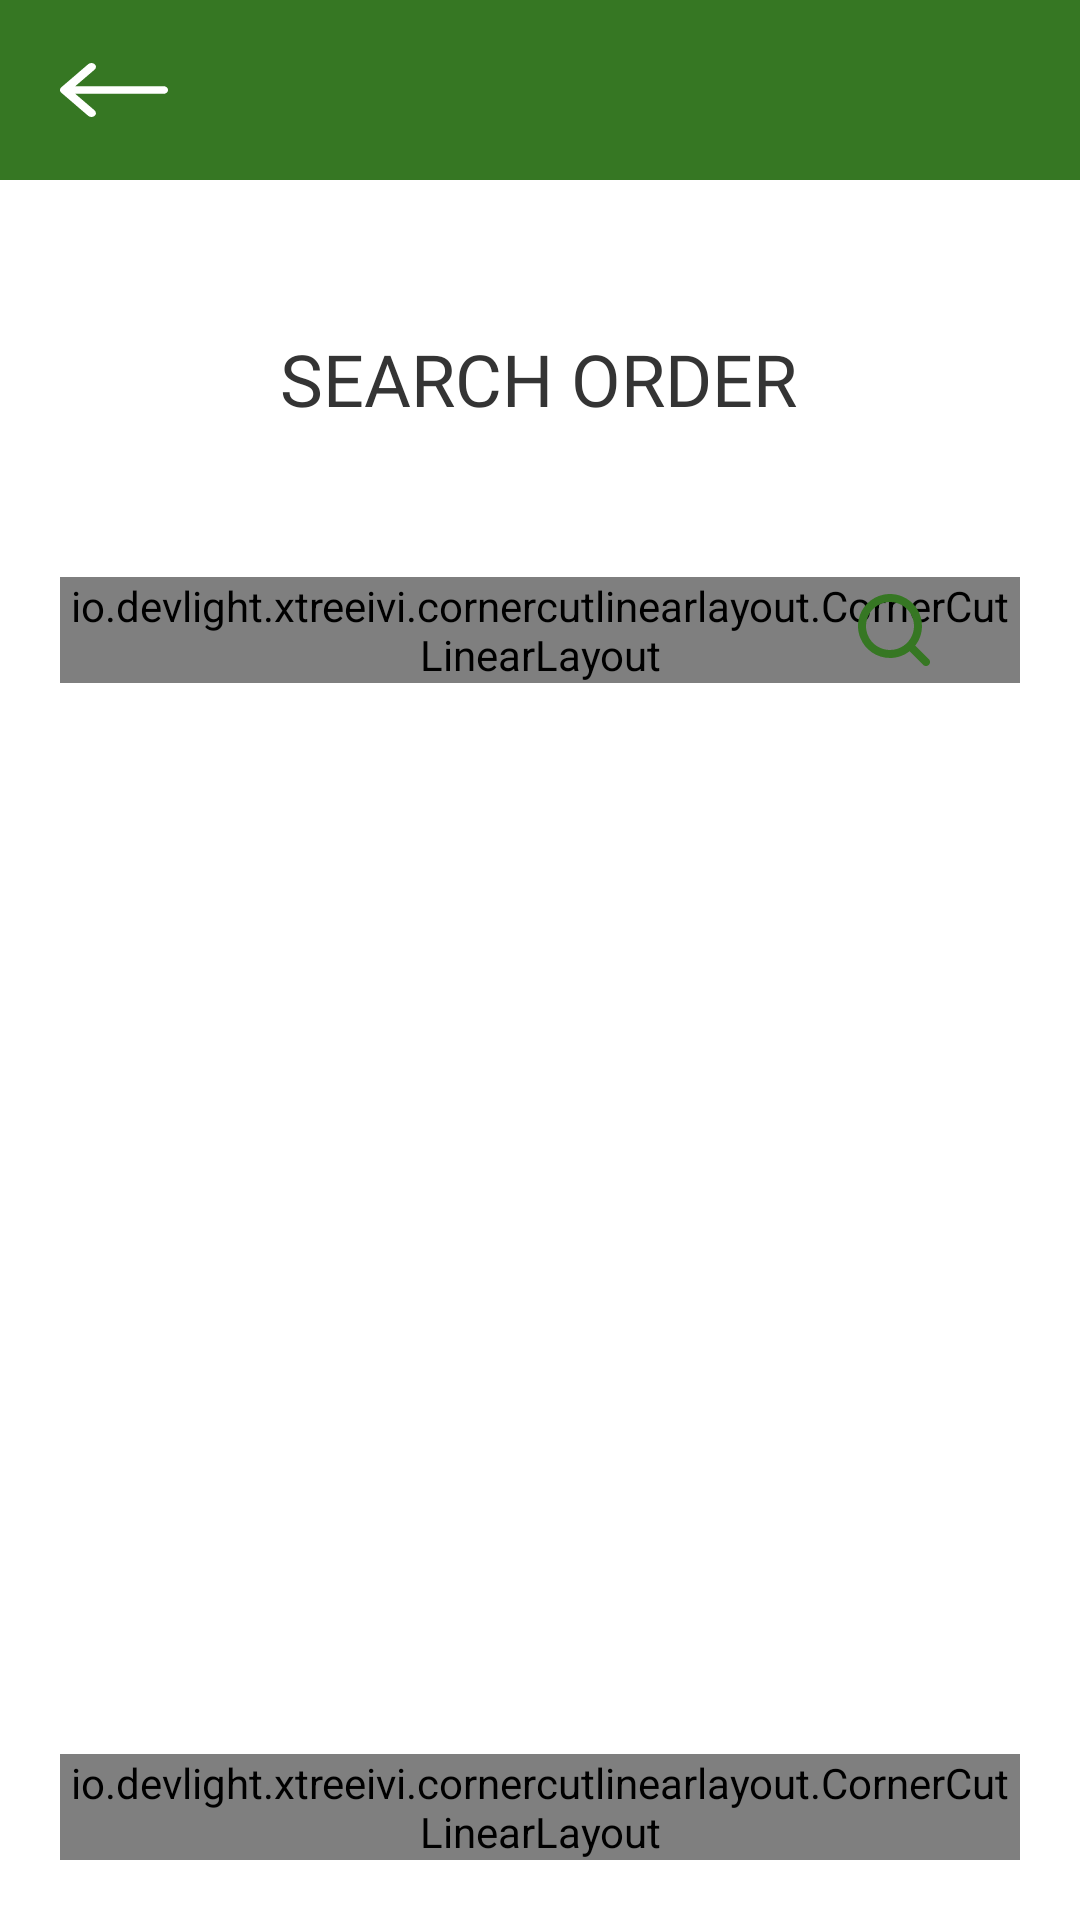

Point at icon controls on the screen. Image size 1080x1920, points as [x,y].
arrow: [114,90]
search: [894,630]
